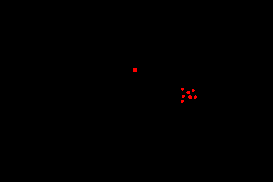Target: (133, 68, 137, 72), (188, 95, 192, 99), (186, 91, 190, 94), (194, 95, 197, 99), (181, 88, 184, 91), (192, 89, 195, 92), (182, 95, 185, 98), (181, 100, 184, 103)
